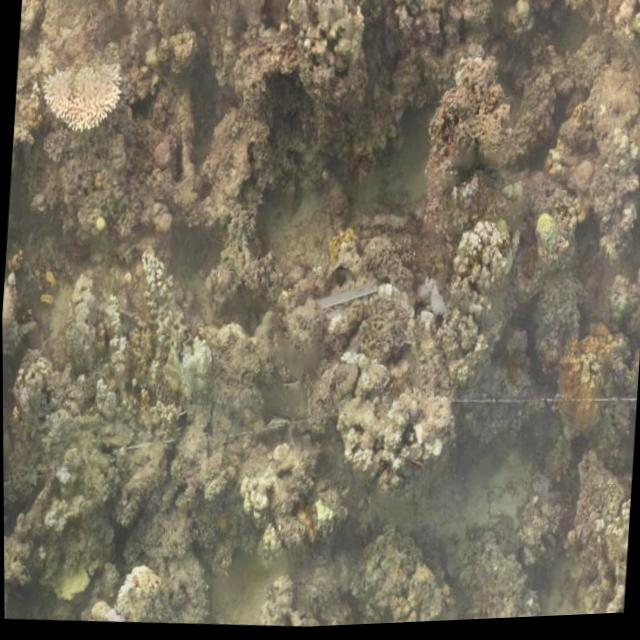Bleached Coral: (42, 58, 125, 128), (131, 245, 173, 320)
